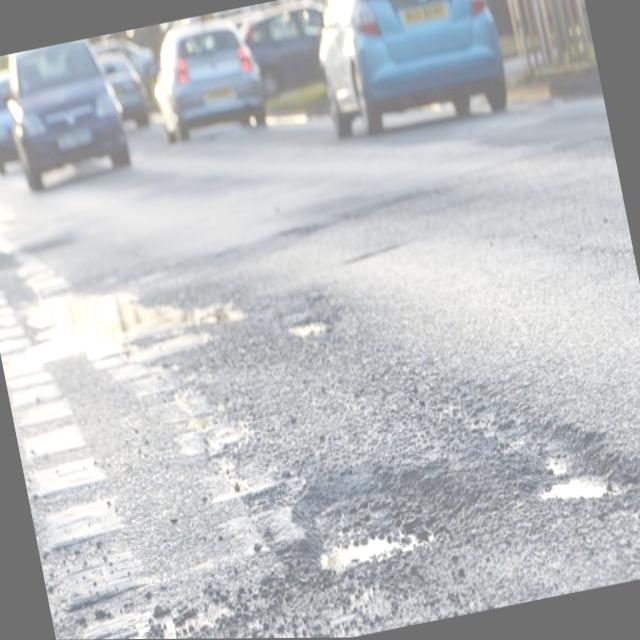Pothole: (306, 468, 466, 568), (531, 428, 640, 501)
